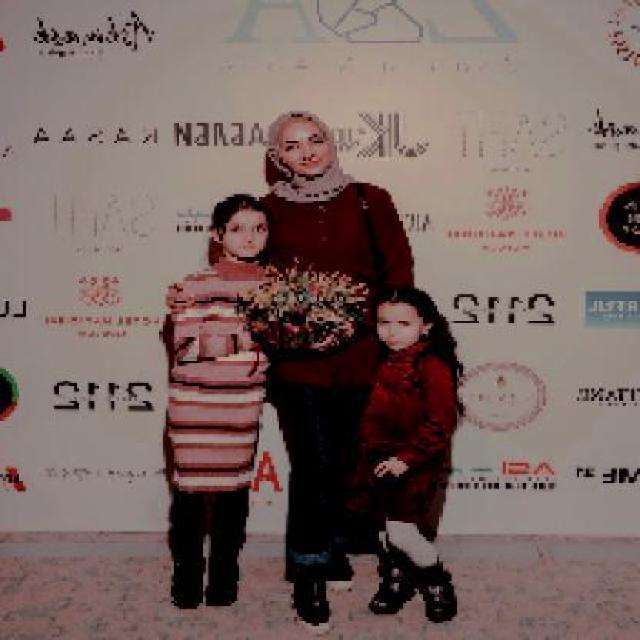child: (346, 287, 463, 622)
